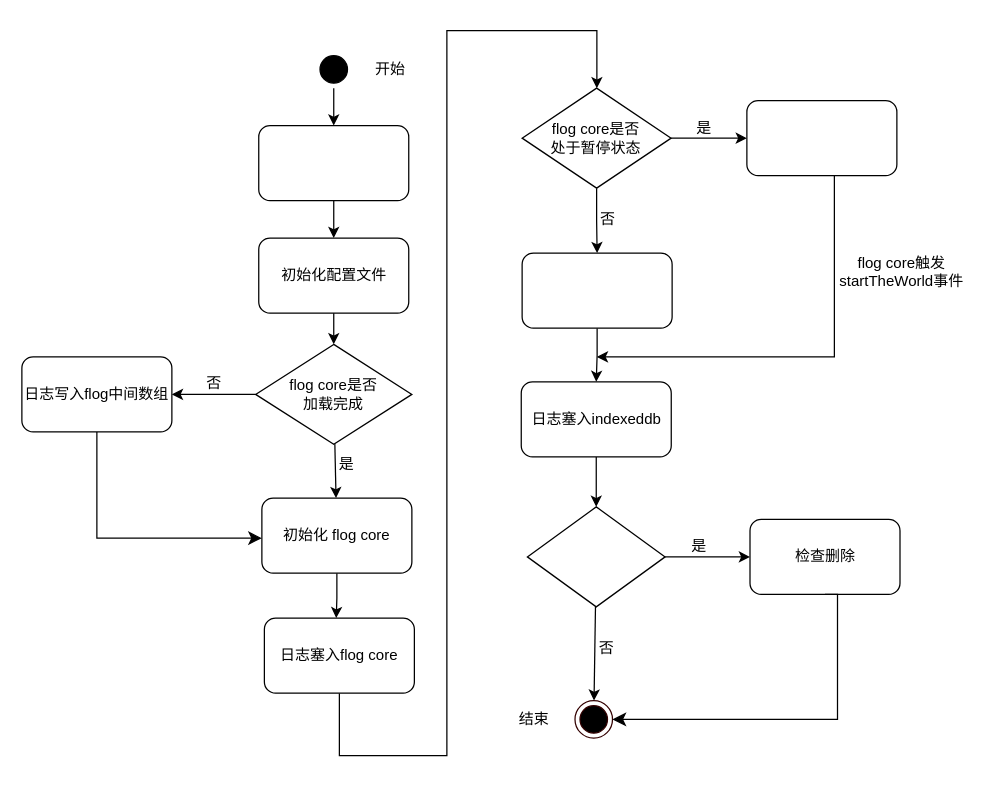
The diagram is 991 pixels wide and 788 high, and some of its shapes have lost their labels. Here are the shapes that lost their labels. From the top down, the centre of each, then its label:
pixel 821 137: 日志写入 flog 中间数组
pixel 333 162: 加载flog文件
pixel 596 290: 日志塞入flog队列
pixel 595 556: 是否超出 条数限制
